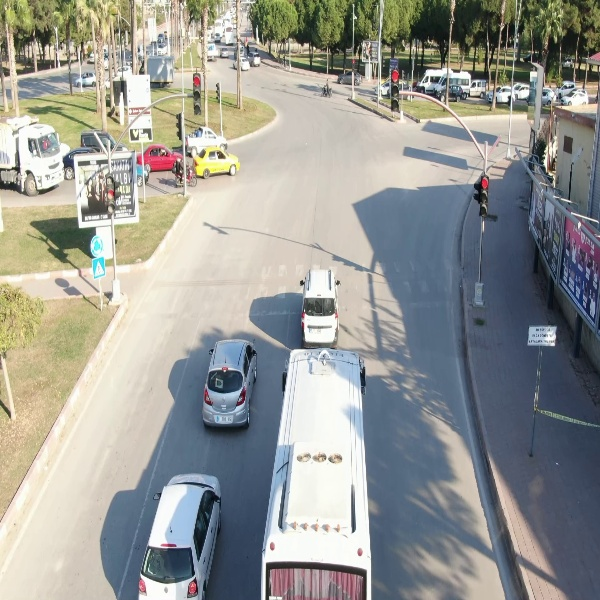car: (200, 339, 260, 430), (300, 266, 342, 350), (193, 145, 243, 181), (488, 85, 518, 106), (438, 83, 464, 103), (558, 90, 590, 106), (337, 68, 363, 86), (75, 71, 96, 89)
